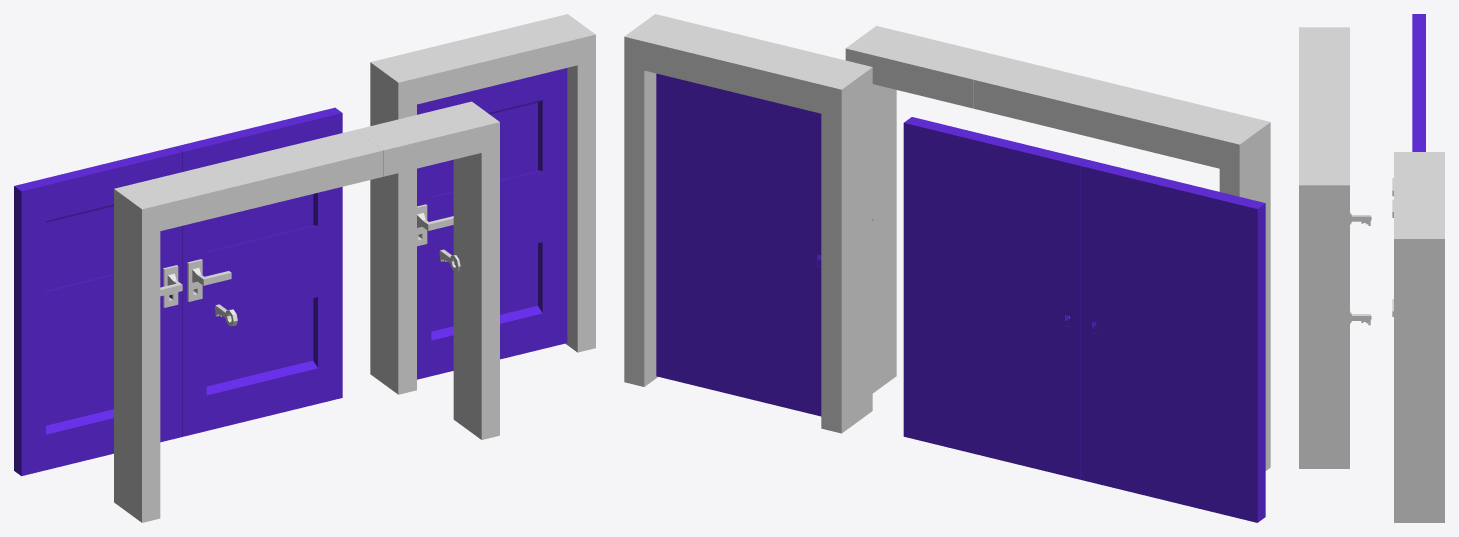
The model's file is porta_batente_fechadura_chave3.fbx.
The picture shows the model from 3 angles, left to right: view 1: azimuth 30°, elevation 25°; view 2: azimuth 150°, elevation 25°; view 3: azimuth 270°, elevation 25°; orthographic projection. The views are drawn at different scales.
Parts seen in each view (by area): view 1: Cube.007, Cube.009, Cube.002, Cube.012, Cube.011, Cube.008, Cube.001, Cube.010; view 2: Cube.002, Cube.009, Cube.011, Cube.012, Cube.007; view 3: Cube.007, Cube.012, Cube.002, Cube.009, Cylinder.004, Cylinder.003.
Boxes of the visible parts, x1,y1,x2,y2 form: Cube.007: [114, 101, 499, 522]; Cube.009: [175, 107, 342, 436]; Cube.002: [14, 147, 181, 476]; Cube.012: [370, 14, 595, 394]; Cube.011: [417, 68, 567, 379]; Cube.008: [187, 259, 231, 301]; Cube.001: [160, 265, 182, 307]; Cube.010: [417, 204, 453, 246]; Cube.002: [1080, 160, 1265, 522]; Cube.009: [903, 117, 1088, 479]; Cube.011: [656, 73, 821, 416]; Cube.012: [624, 14, 872, 433]; Cube.007: [845, 26, 1270, 470]; Cube.007: [1299, 27, 1349, 468]; Cube.012: [1394, 152, 1444, 522]; Cube.002: [1412, 14, 1425, 84]; Cube.009: [1412, 85, 1425, 151]; Cylinder.004: [1350, 311, 1371, 325]; Cylinder.003: [1350, 212, 1371, 225].
Bounding box in the file's own units: 5933 × 3281 × 1468.
